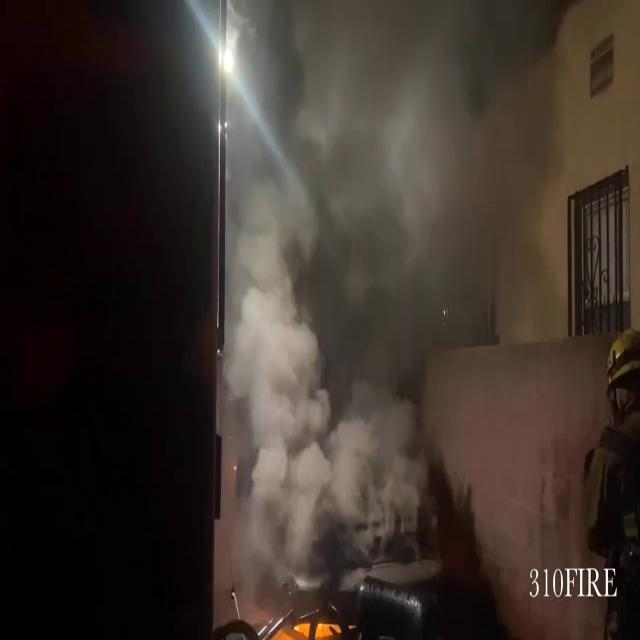Smoke: (215, 1, 608, 604)
